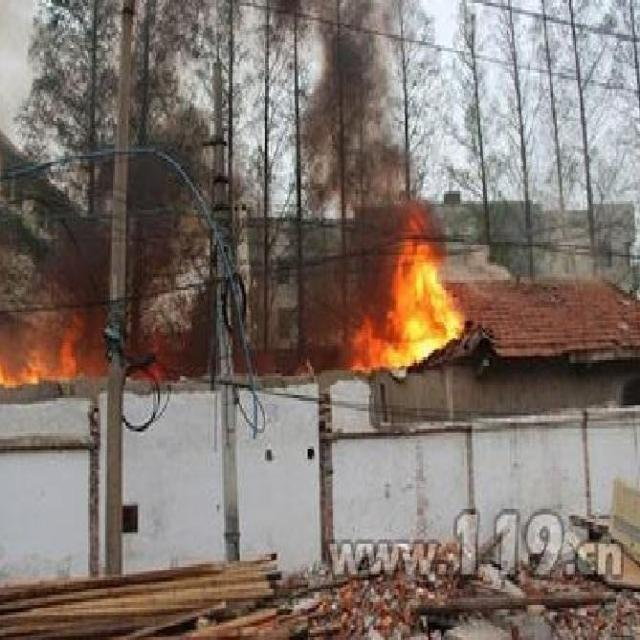Fire: (348, 211, 465, 372), (1, 321, 84, 386)
Smoke: (264, 1, 453, 324), (128, 1, 210, 288)
